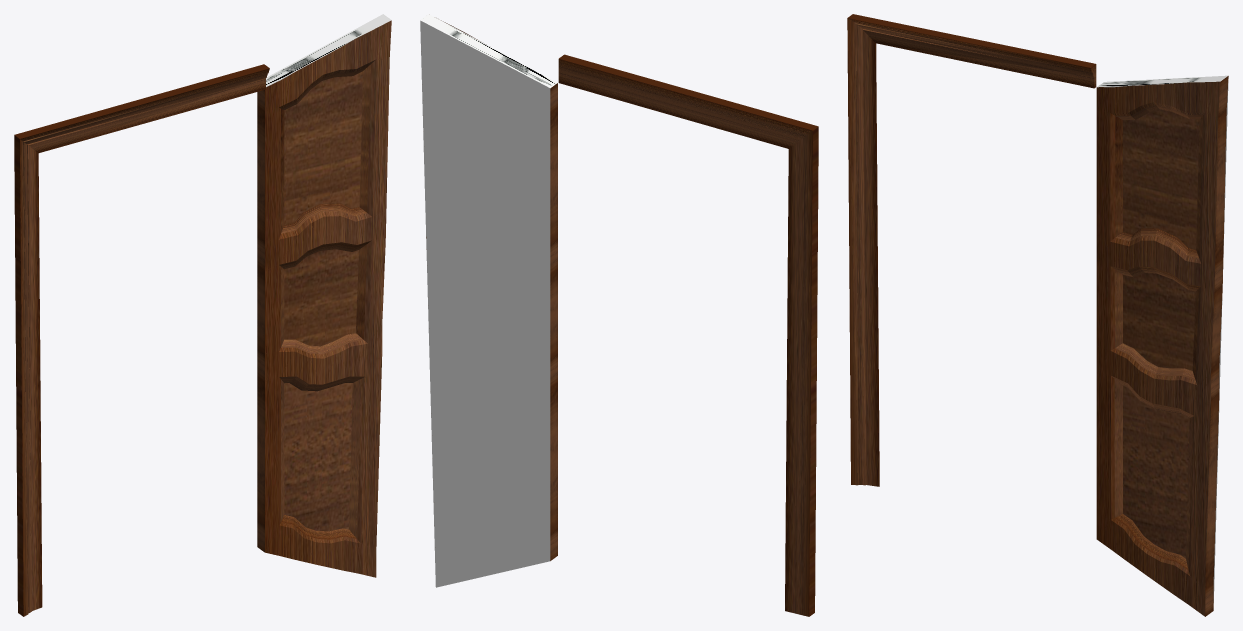
File: dOORfIXED.fbx
3 renders of one model, left to right at view 1: azimuth 30°, elevation 25°; view 2: azimuth 150°, elevation 25°; view 3: azimuth 330°, elevation 25°, orthographic. The views are drawn at different scales.
Parts seen in each view (by area): view 1: pPlane3; view 2: pPlane3; view 3: pPlane3.
Part boxes in pixels (x1,y1,x2,y2): pPlane3: (14,14,391,616); pPlane3: (420,14,818,616); pPlane3: (847,14,1228,616).
Bounding box in the file's own units: 11.53 × 16.17 × 0.7503.
2 materials, 2 textured.
